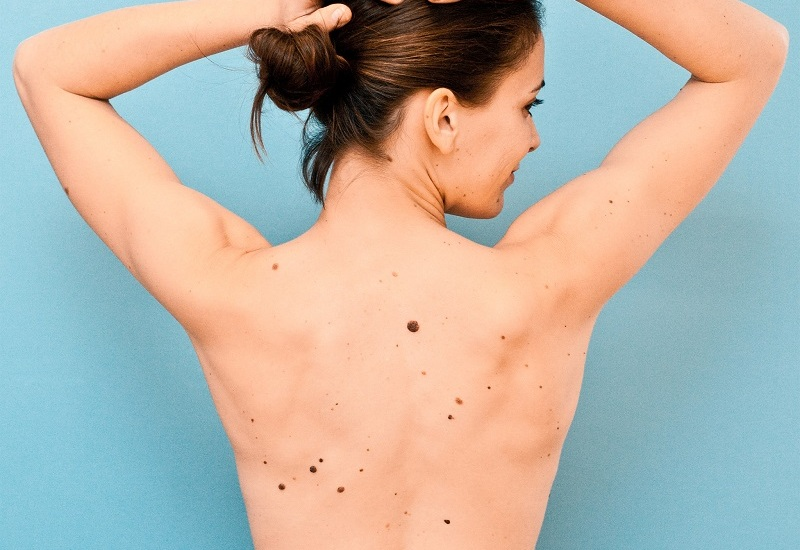mole: (404, 318, 424, 337), (273, 480, 290, 495), (383, 151, 397, 166), (440, 515, 454, 529), (59, 183, 73, 197), (419, 366, 432, 381), (334, 485, 350, 497), (268, 261, 283, 273), (454, 395, 467, 408), (354, 465, 369, 476), (307, 463, 319, 476), (522, 361, 535, 372), (485, 383, 497, 394), (259, 458, 271, 469), (389, 489, 401, 500), (446, 411, 456, 423), (247, 414, 259, 424), (402, 508, 414, 518), (493, 194, 501, 207), (497, 332, 507, 342), (605, 197, 615, 207), (537, 383, 549, 391), (562, 322, 570, 332), (564, 350, 573, 358), (461, 192, 469, 200), (364, 445, 371, 454)
